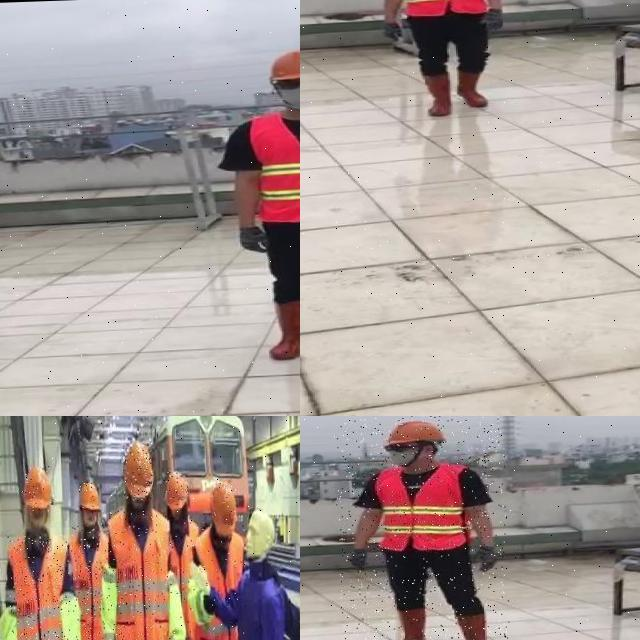boots: (333, 416, 512, 640), (266, 297, 300, 360), (418, 68, 456, 116), (452, 68, 492, 109), (387, 609, 428, 640), (453, 610, 493, 640)
helmet: (384, 418, 446, 449), (122, 443, 154, 500), (210, 481, 238, 540), (20, 466, 52, 513), (261, 46, 300, 81), (163, 471, 188, 512), (78, 481, 100, 515)
vest: (107, 507, 173, 640), (377, 464, 468, 554), (7, 533, 73, 640), (192, 524, 249, 640), (251, 105, 300, 222), (69, 523, 113, 640), (167, 519, 200, 640), (399, 0, 486, 18)
